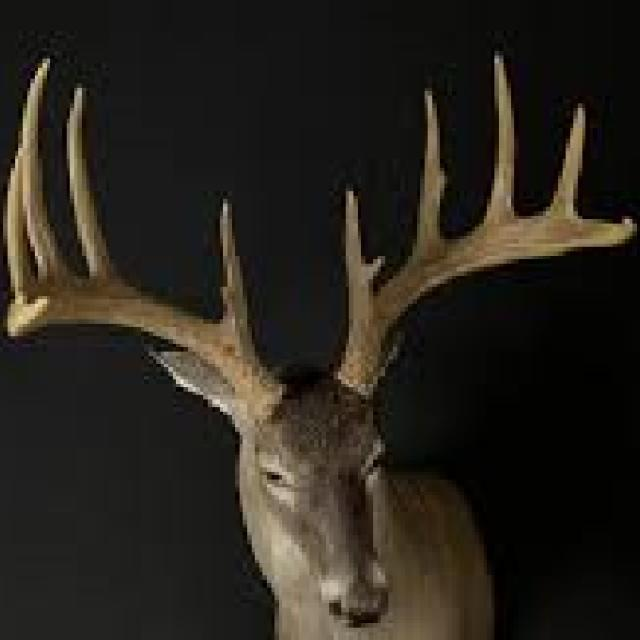E1: (362, 255, 386, 286)
L-F: (330, 214, 639, 401)
L-G1: (344, 187, 374, 335)
L-G2: (411, 85, 451, 257)
L-G3: (479, 50, 515, 226)
L-G4: (541, 102, 587, 219)
R-F: (3, 280, 287, 423)
R-G1: (219, 199, 251, 338)
R-G2: (66, 83, 113, 278)
R-G4: (3, 148, 30, 296)
